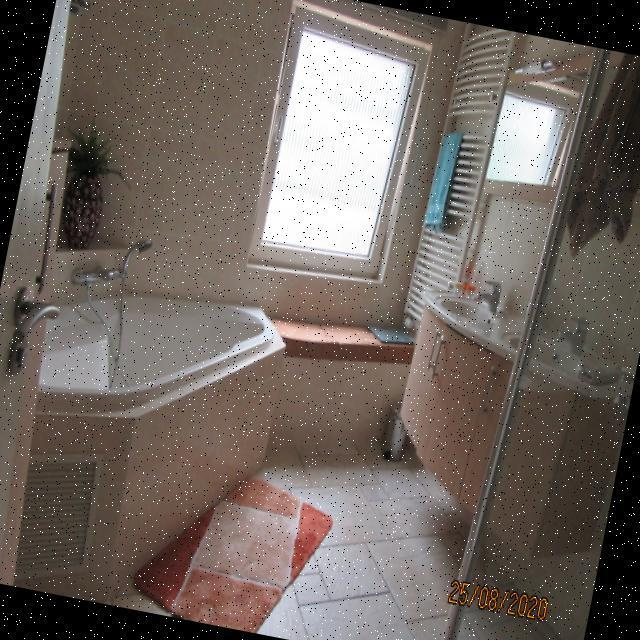bath: (0, 260, 295, 629)
designradiator: (396, 21, 522, 347)
douche: (430, 41, 640, 640)
wastafel: (379, 303, 640, 563), (407, 277, 640, 409)
